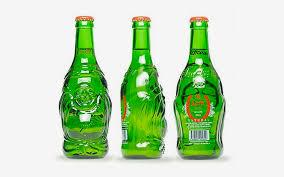Glass bottle: (53, 9, 114, 162), (172, 10, 230, 161), (119, 7, 171, 165)
